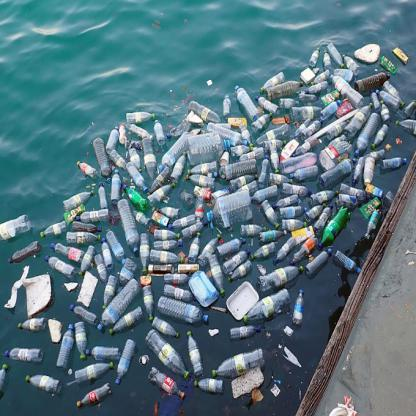bottle: (100, 280, 144, 336), (203, 187, 255, 229), (146, 329, 190, 378), (244, 287, 293, 323), (212, 347, 268, 378), (156, 296, 211, 326), (219, 235, 253, 282), (316, 208, 352, 249), (118, 200, 143, 259), (187, 134, 233, 166), (149, 366, 187, 400), (354, 112, 382, 158), (92, 137, 118, 185), (320, 156, 359, 187), (160, 132, 192, 166), (260, 266, 305, 290), (116, 339, 137, 389), (186, 330, 207, 375), (140, 137, 160, 184), (77, 382, 112, 408), (235, 84, 260, 120), (1, 214, 33, 242), (121, 182, 150, 212), (57, 321, 75, 369), (214, 162, 259, 180), (355, 72, 390, 95), (70, 219, 103, 243), (49, 242, 85, 264), (75, 362, 114, 382), (26, 374, 63, 395), (152, 228, 184, 252), (268, 81, 306, 101), (187, 164, 220, 187), (9, 240, 43, 262), (280, 153, 320, 171), (200, 232, 222, 264), (44, 256, 75, 278), (70, 304, 100, 326), (62, 190, 96, 209), (72, 321, 89, 359), (192, 376, 226, 395), (152, 317, 181, 339), (274, 237, 297, 264), (124, 110, 157, 128), (262, 201, 281, 232), (4, 347, 45, 361), (86, 346, 121, 362), (249, 185, 280, 203), (17, 316, 48, 334), (293, 287, 306, 326), (188, 229, 202, 263), (228, 325, 262, 339), (150, 249, 186, 262), (41, 220, 70, 236), (282, 183, 314, 197), (293, 105, 323, 119), (76, 160, 98, 179), (0, 362, 9, 398), (309, 46, 320, 68)
waste: (24, 272, 57, 318), (227, 282, 259, 320), (188, 270, 219, 309), (232, 366, 265, 399), (75, 271, 99, 307), (354, 43, 382, 64)
